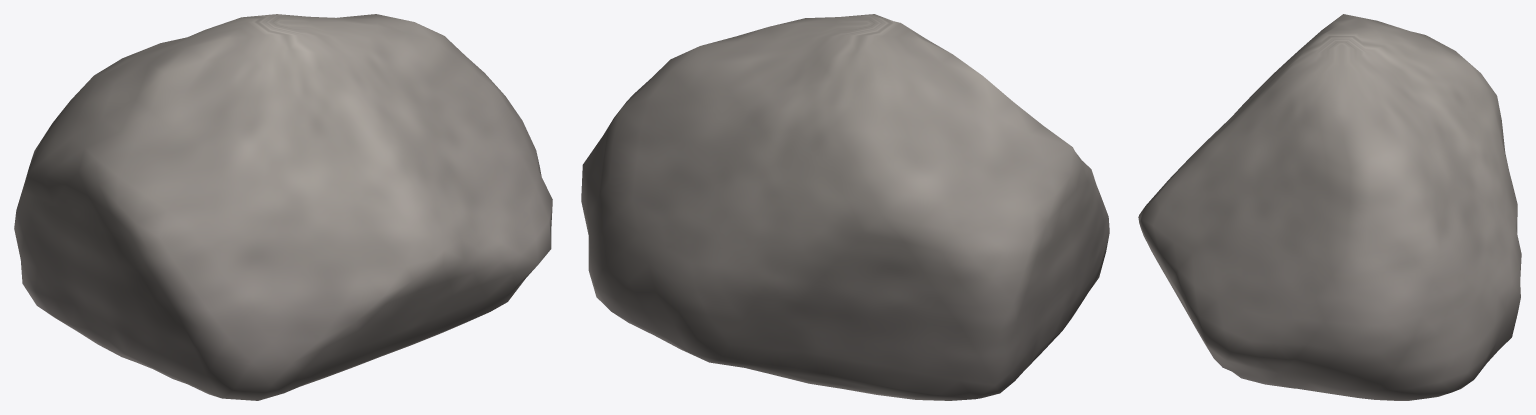
The model's file is Kit_RockA.fbx.
The picture shows the model from 3 angles, left to right: view 1: azimuth 30°, elevation 25°; view 2: azimuth 150°, elevation 25°; view 3: azimuth 270°, elevation 25°; orthographic projection. The views are drawn at different scales.
Parts seen in each view (by area): view 1: Kit_RockA; view 2: Kit_RockA; view 3: Kit_RockA.
Part boxes in pixels (bbox=[...]): Kit_RockA: bbox=[14, 14, 552, 400]; Kit_RockA: bbox=[581, 14, 1109, 400]; Kit_RockA: bbox=[1138, 14, 1521, 400].
Size of the model in its own units: 6.31 by 3.98 by 4.86.
1 material, 1 textured.
